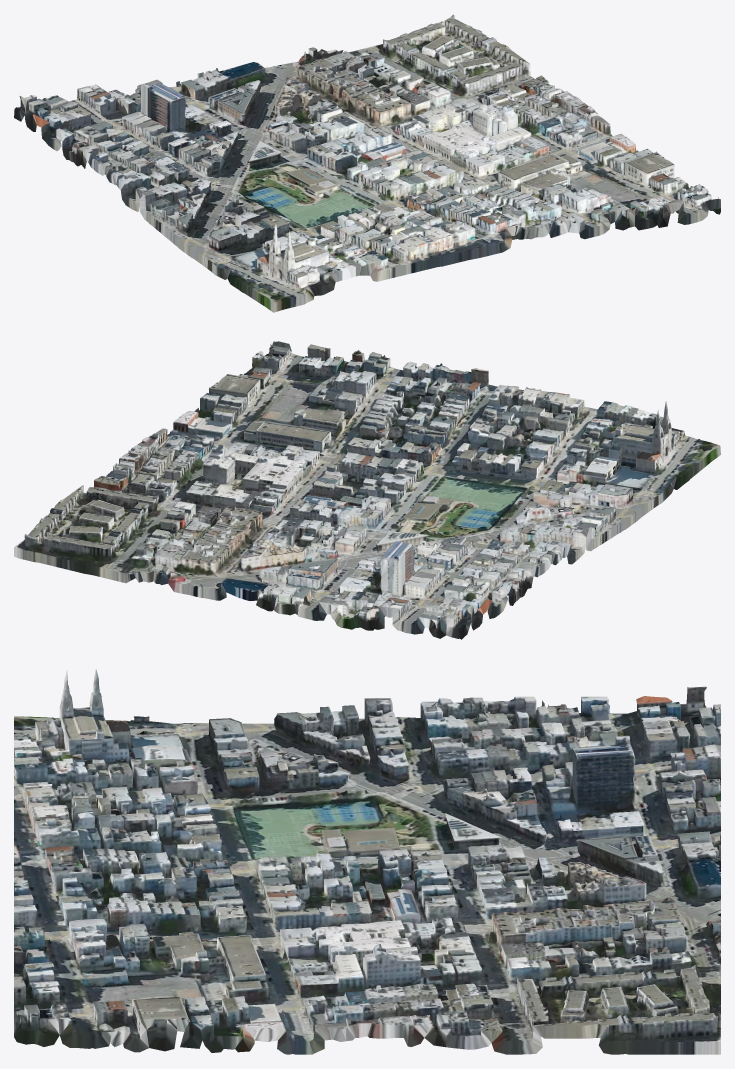
The model's file is z16-10483-25324-h0-yup-uvflip-v3-world.glb.
The picture shows the model from 3 angles, top to bottom: view 1: azimuth 30°, elevation 25°; view 2: azimuth 150°, elevation 25°; view 3: azimuth 270°, elevation 25°; orthographic projection. The views are drawn at different scales.
Bounding box in the file's own units: 483 × 84.48 × 485.
1 material, 1 textured.
